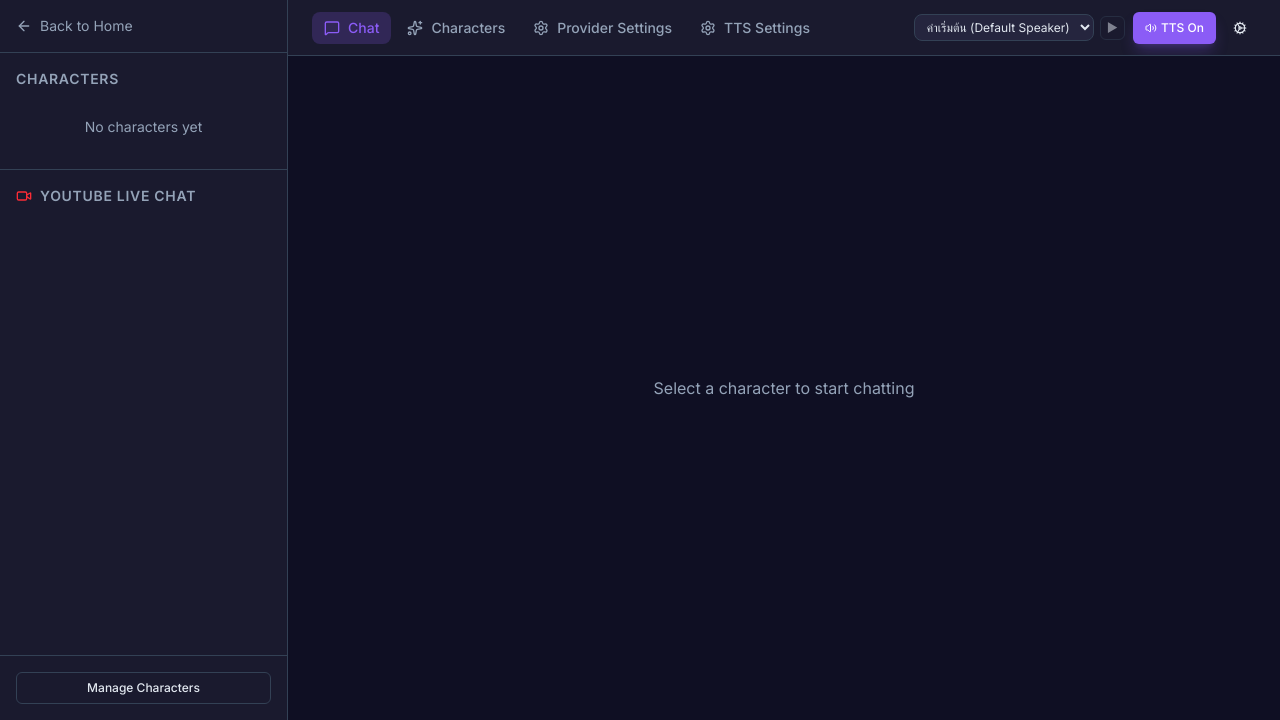
Test: ChatPage › shows YouTube chat panel when toggled
Click the button "YouTube Live Chat" at (144, 196), box [16,186,271,206]
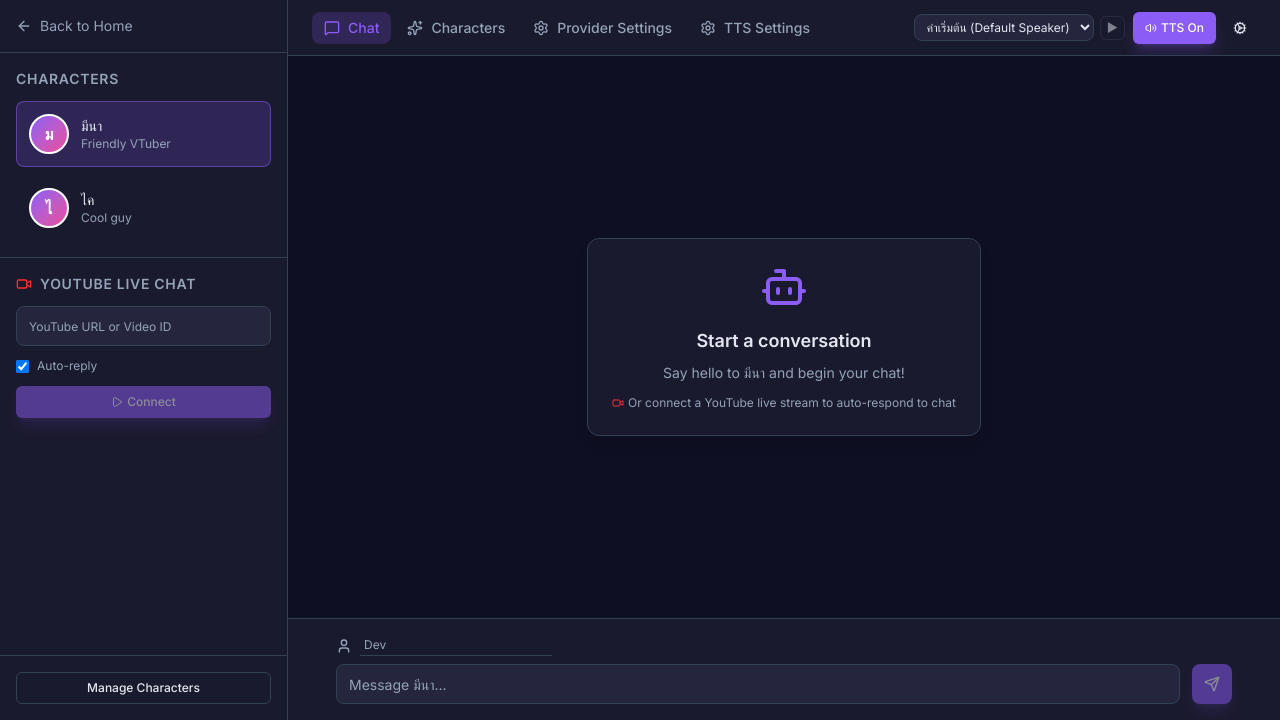
expect the field with placeholder "YouTube URL or Video ID" is shown: met, box [16,306,271,346]
